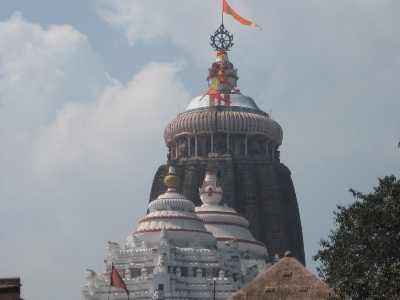amalaka: (155, 98, 295, 153), (189, 195, 246, 231), (145, 191, 197, 217)
